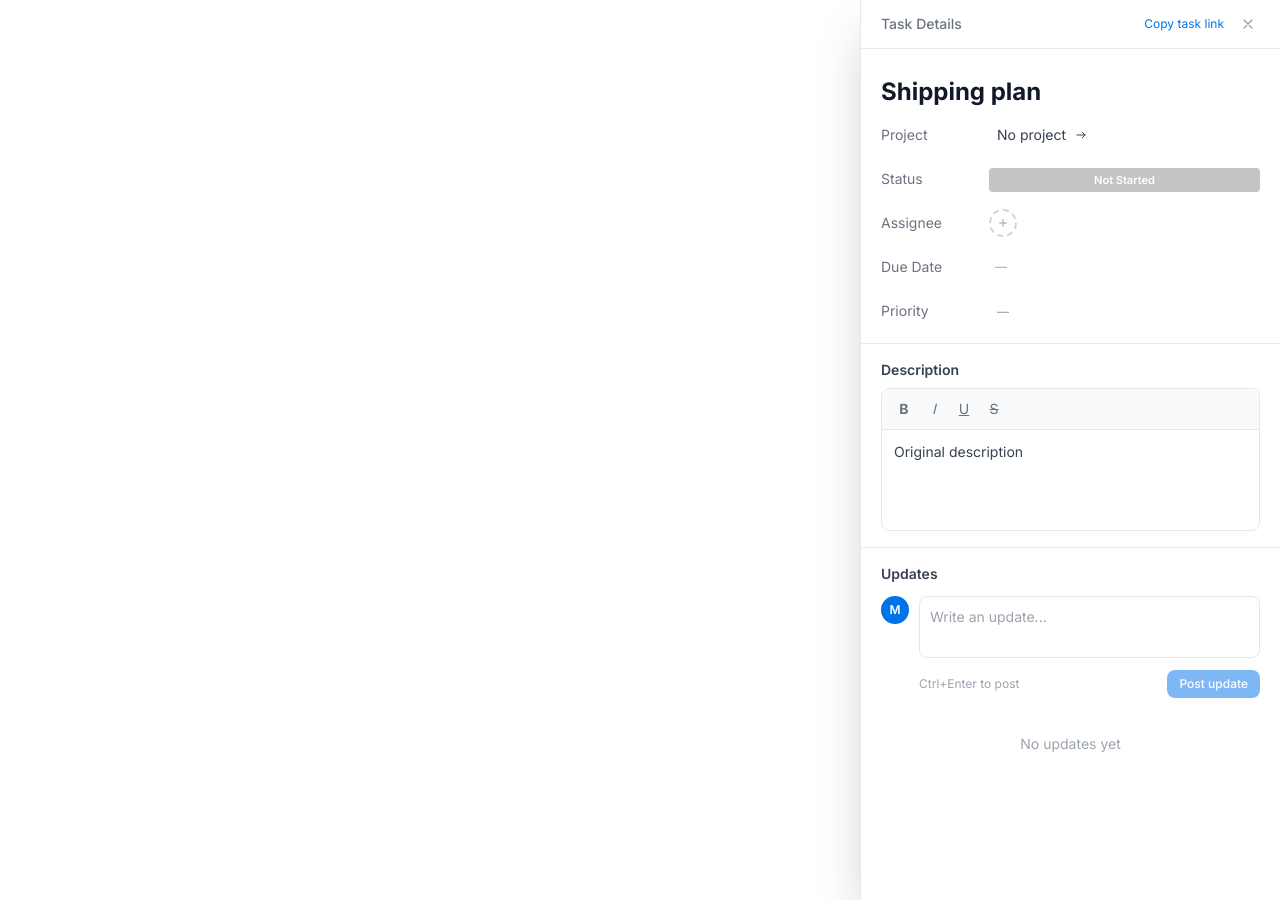
Scenario: task editor accessibility and confirmed save feedback › cancels title editing with Escape without saving or closing the panel
The width and height of the screenshot is (1280, 900).
Step 1. Click the button with aria-label "Edit task name: Shipping plan" → (961,92), box [881,77,1260,107]
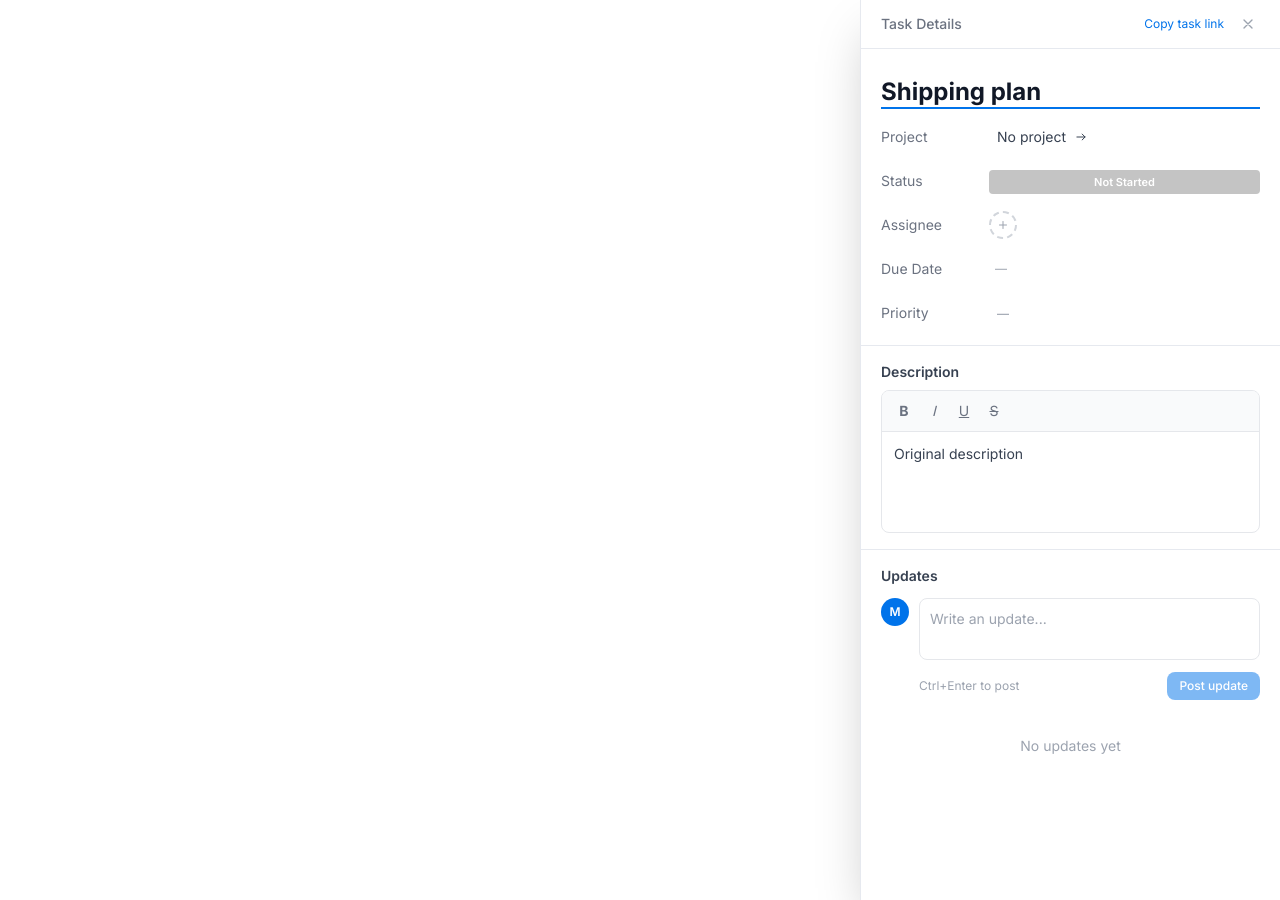
Step 2. Replace the text in the field named "Task name" with "Discard this" → (1070,93), box [881,77,1260,109]
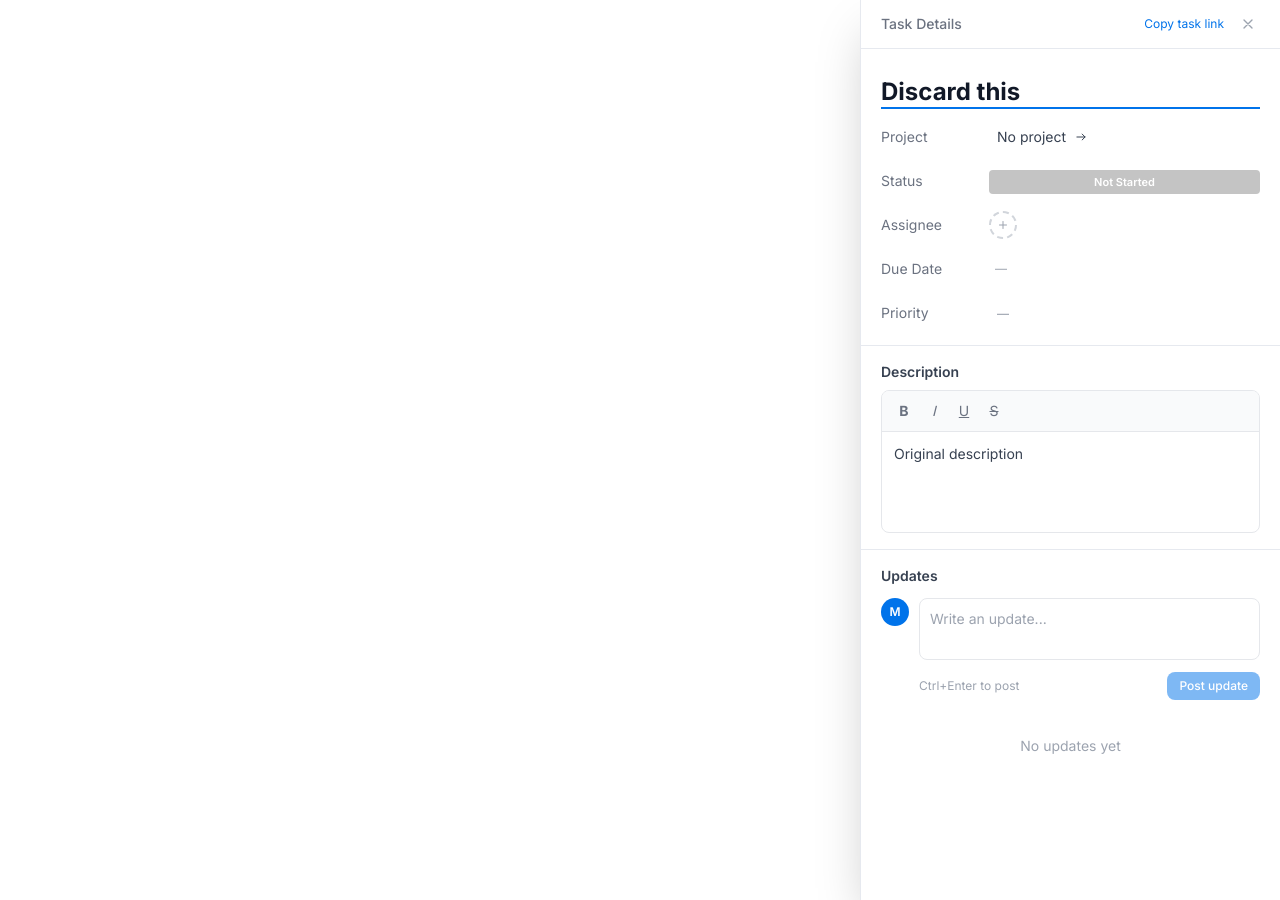
Step 3. Press Escape in the field named "Task name", box [881,77,1260,109]
Wait 20 ms
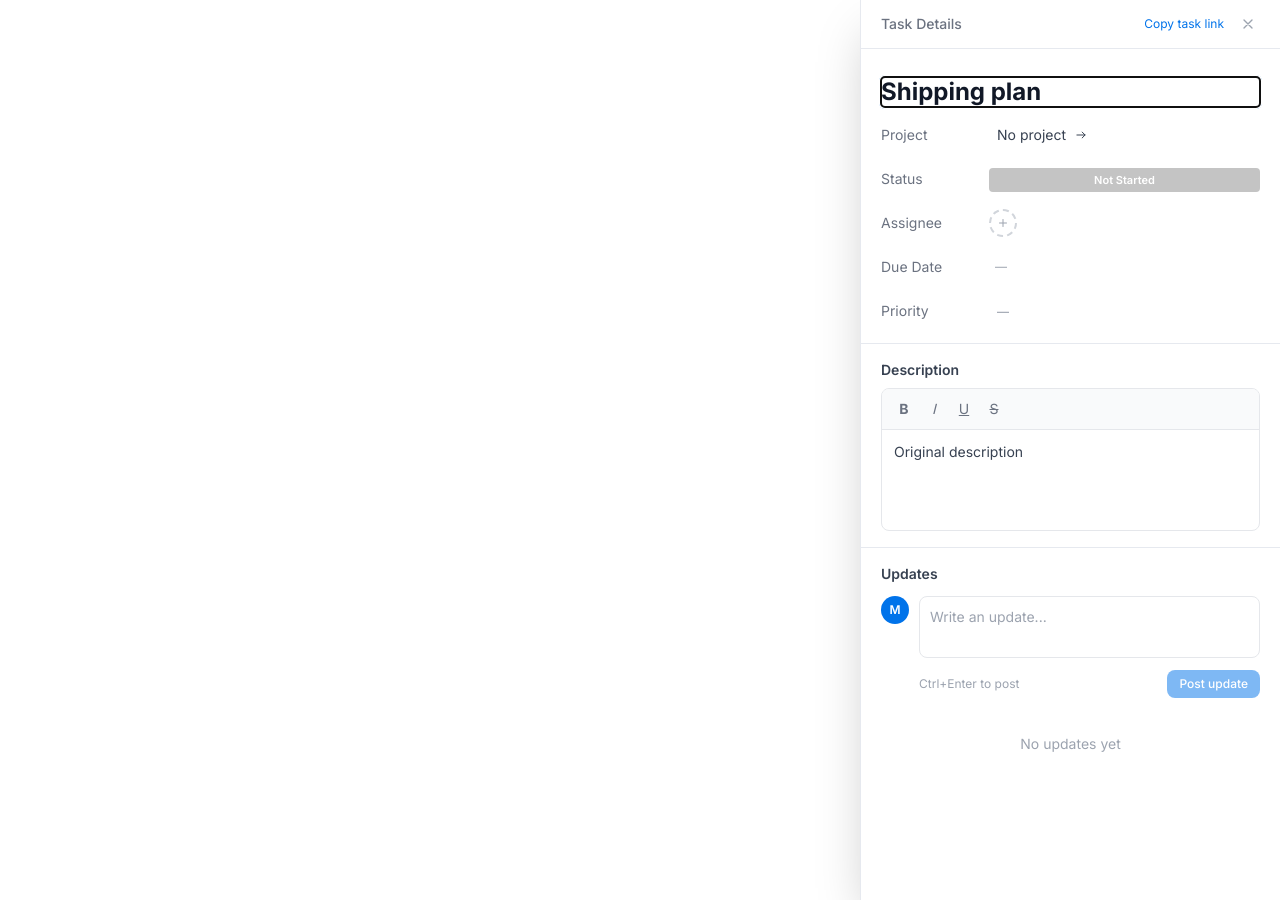
Now the heading "Shipping plan" is shown, box [881,77,1260,107]
